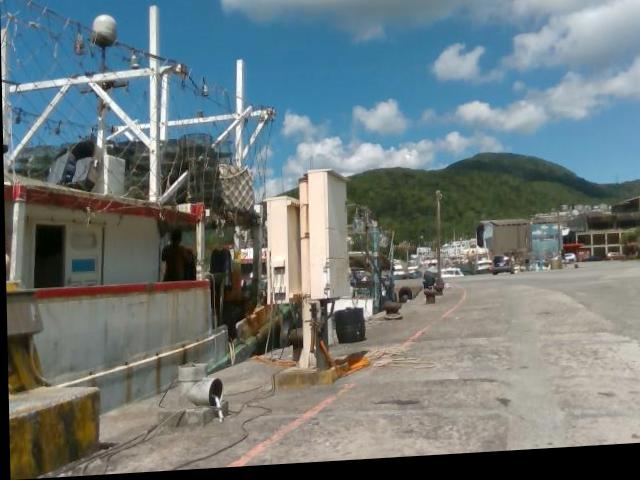pollute: (331, 309, 367, 350)
